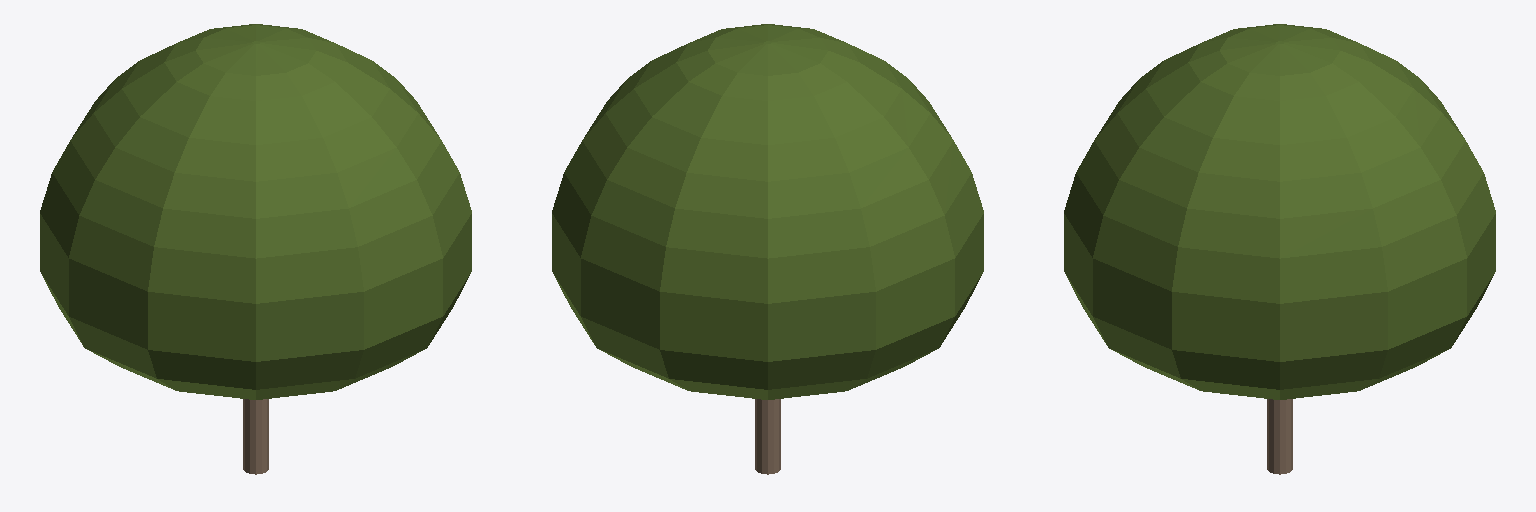
File: Japanese_Angelica_Tree_Analytical_0.obj
3 renders of one model, left to right at view 1: azimuth 30°, elevation 25°; view 2: azimuth 150°, elevation 25°; view 3: azimuth 270°, elevation 25°, orthographic.
Parts seen in each view (by area): view 1: AnalyticalCrown, AnalyticalTrunk; view 2: AnalyticalCrown, AnalyticalTrunk; view 3: AnalyticalCrown, AnalyticalTrunk.
Part boxes in pixels (x1,y1,x2,y2): AnalyticalCrown: (40, 24, 471, 399); AnalyticalTrunk: (243, 399, 268, 474); AnalyticalCrown: (552, 24, 983, 399); AnalyticalTrunk: (755, 399, 780, 474); AnalyticalCrown: (1064, 24, 1495, 399); AnalyticalTrunk: (1267, 399, 1292, 474).
Bounding box in the file's own units: 3.68 × 4 × 3.68.